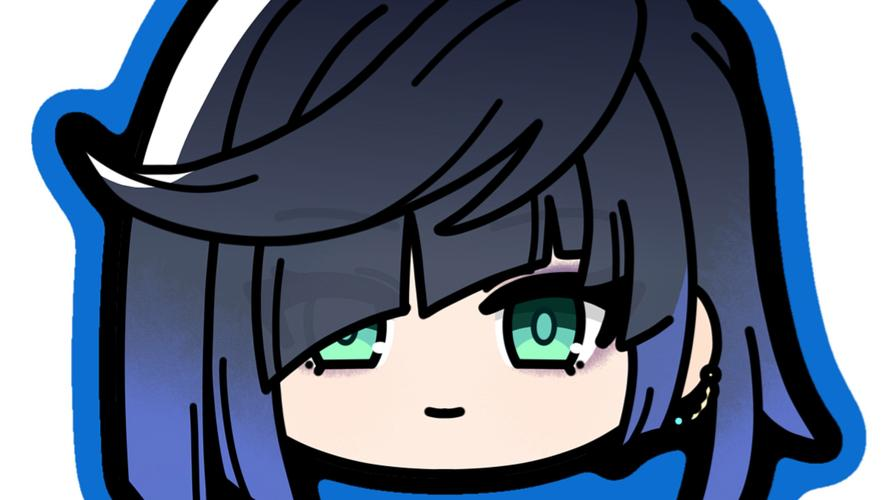夜兰: (55, 2, 846, 500)
